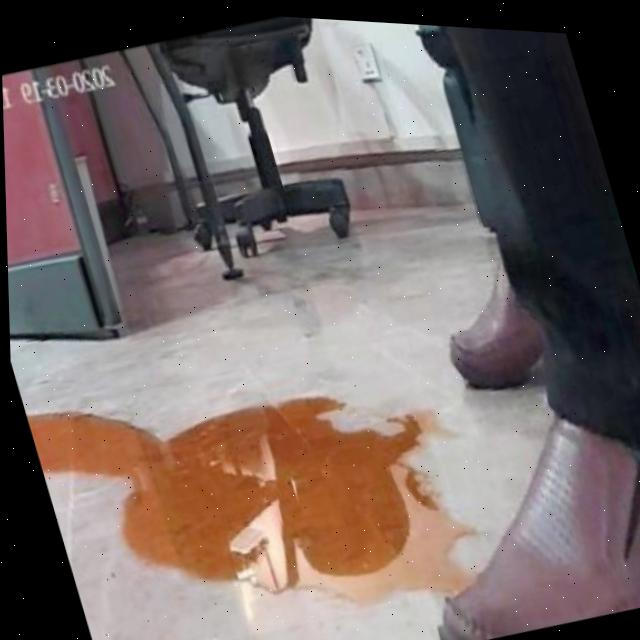spillage: (24, 393, 460, 595)
